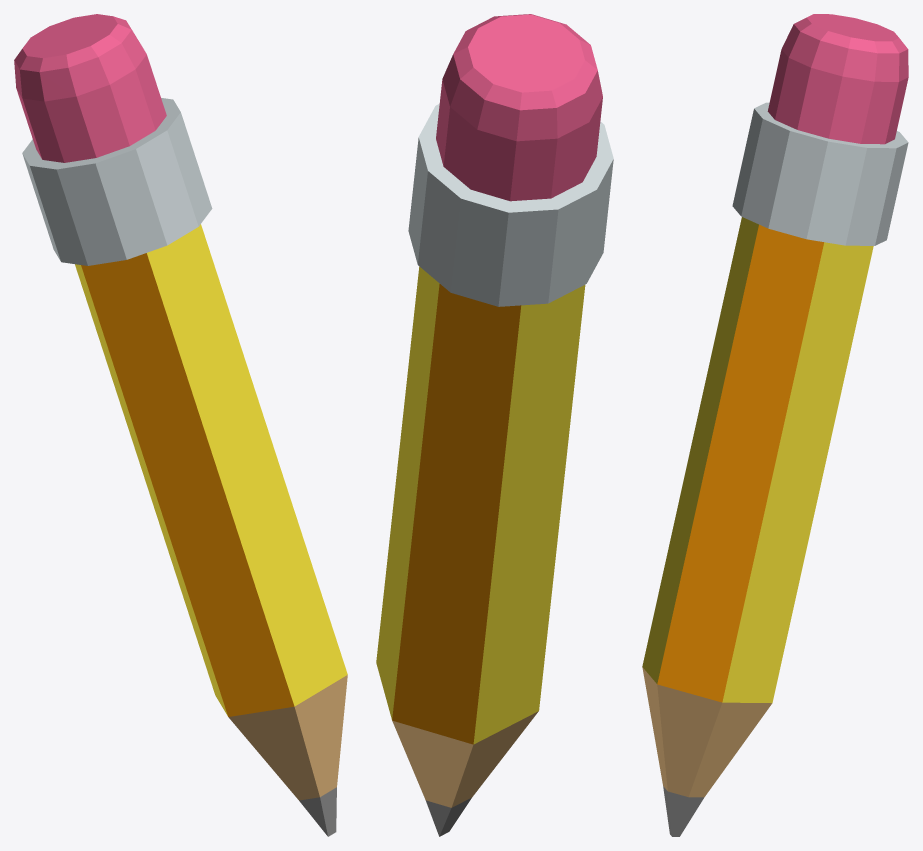
The model's file is group1564940181_lev3.003.glb.
The picture shows the model from 3 angles, left to right: view 1: azimuth 30°, elevation 25°; view 2: azimuth 150°, elevation 25°; view 3: azimuth 270°, elevation 25°; orthographic projection. The views are drawn at different scales.
Parts seen in each view (by area): view 1: group1564940181_lev3.003; view 2: group1564940181_lev3.003; view 3: group1564940181_lev3.003.
Boxes of the visible parts, box(x1,y1,x2,y2) form: group1564940181_lev3.003: box(14, 14, 347, 836); group1564940181_lev3.003: box(376, 14, 613, 836); group1564940181_lev3.003: box(642, 14, 908, 836).
Bounding box in the file's own units: 3.72 × 11.3 × 3.66.
